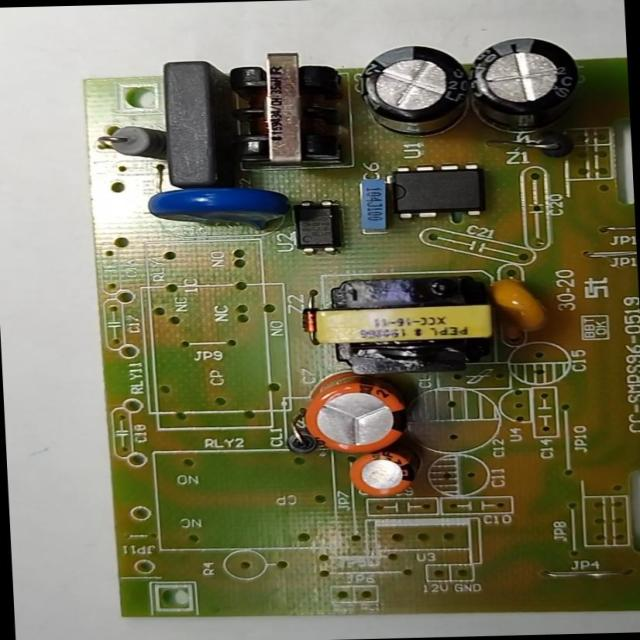Cap1: (296, 370, 419, 456)
Cap2: (342, 447, 423, 500)
Cap3: (356, 46, 476, 141)
Cap4: (463, 34, 587, 137)
MOSFET: (382, 163, 496, 224)
Mov: (140, 180, 293, 232)
Resistor: (95, 120, 172, 165)
Transformer: (295, 269, 511, 376), (224, 49, 354, 174)
